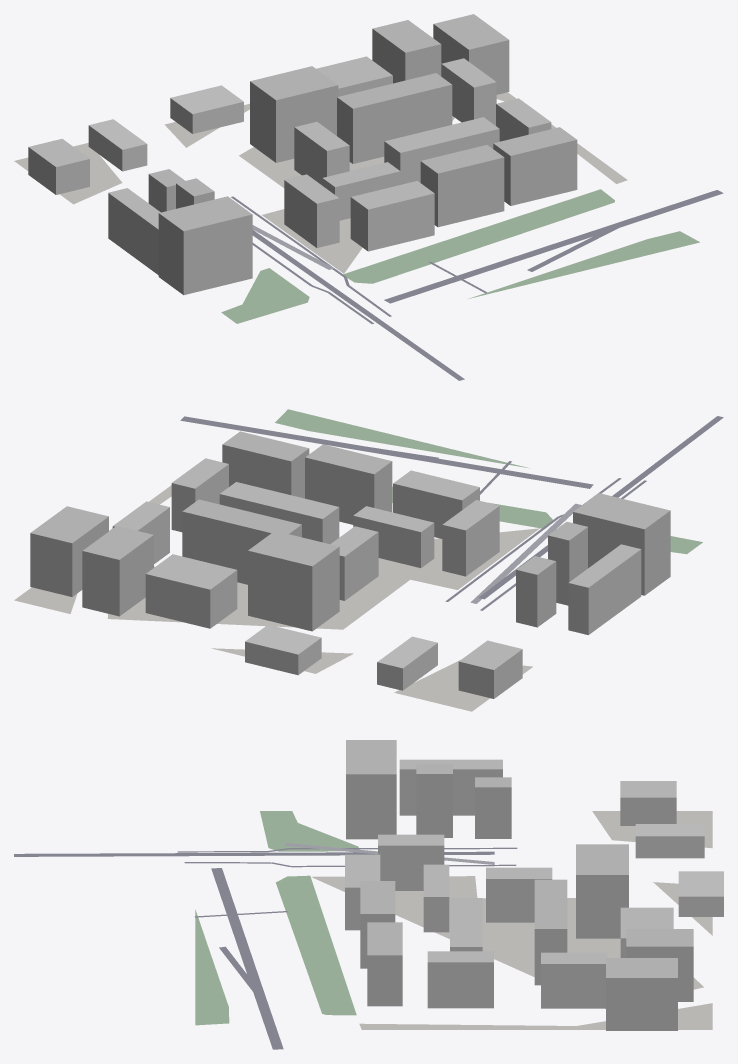
Rendered from 118_115_mid.glb.
3 views of the same model, one above another, from view 1: azimuth 30°, elevation 25°; view 2: azimuth 150°, elevation 25°; view 3: azimuth 270°, elevation 25° (orthographic). The views are drawn at different scales.
Size of the model in its own units: 572 by 70.27 by 686.
